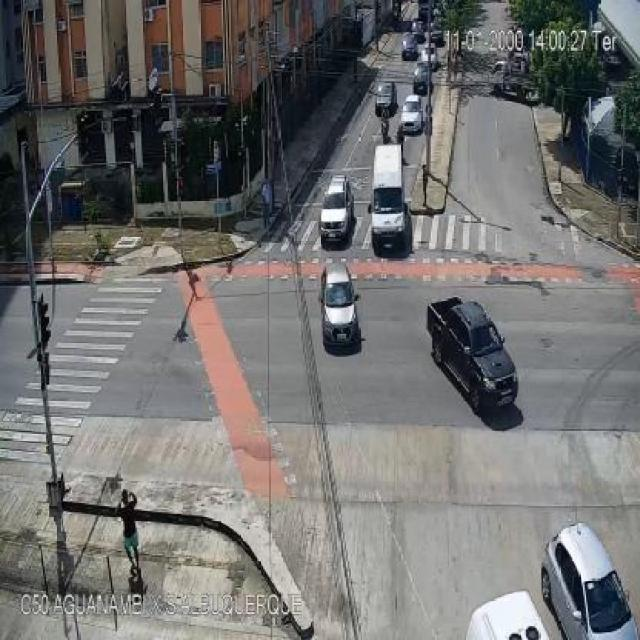Car: (421, 291, 528, 424), (538, 526, 634, 636), (318, 262, 359, 349), (319, 175, 355, 245), (398, 93, 429, 132), (370, 81, 399, 112), (393, 33, 422, 62), (414, 63, 436, 94), (422, 41, 441, 66)
Truck: (363, 143, 412, 261), (485, 54, 544, 105)
